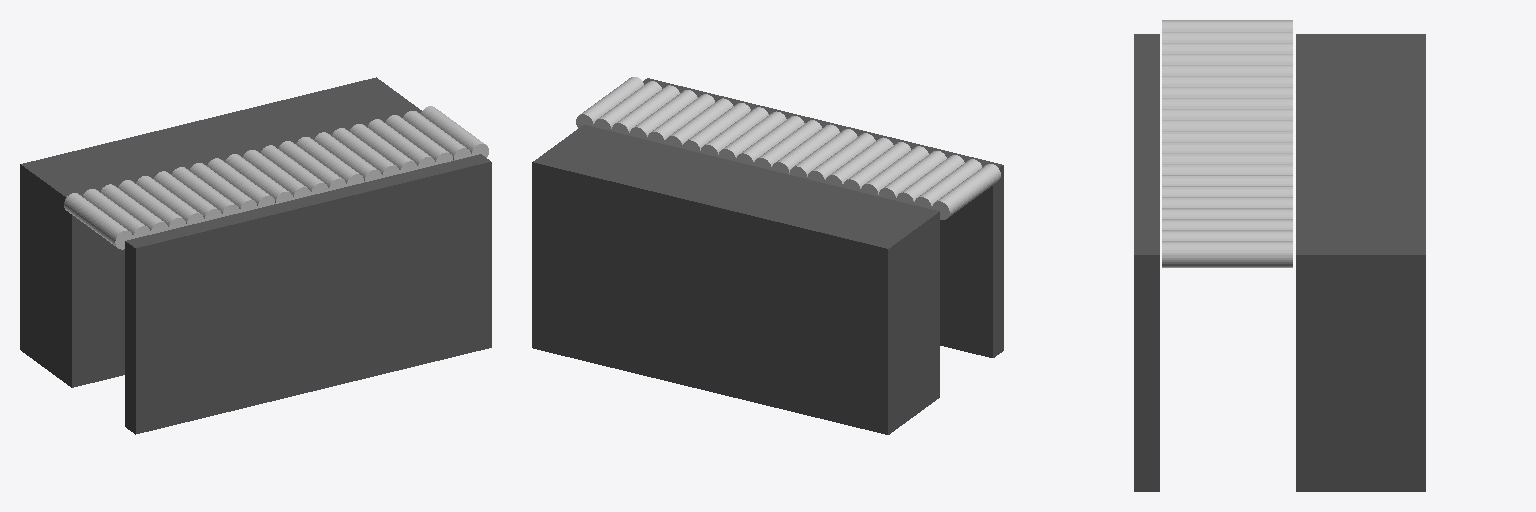
The robot description file, URDF, robot "conveyor":
<?xml version="1.0" ?>
<robot name="conveyor" xmlns:xacro="http://www.ros.org/wiki/xacro">
  <!-- Import Rviz colors -->
  <material name="Grey">
    <color rgba="0.2 0.2 0.2 1.0"/>
  </material>
  <material name="Orange">
    <color rgba="1.0 0.423529411765 0.0392156862745 1.0"/>
  </material>
  <material name="Blue">
  <color rgba="0.5 0.7 1.0 1.0"/>      
  </material>
  
<link name="table_side_01">
  <visual>	
    <origin rpy="0 0 0" xyz="0 0 0"/>
    <geometry>
      <box size = "2 0.5 1" />
    </geometry>
    <material name="Grey">
      <color rgba="0.4 0.4 0.4 1.0"/>
    </material>
  </visual>
  <collision>
    <origin rpy="0 0 0" xyz="0 0 0"/>
    <geometry>
      <box size = "2 0.5 1" />
    </geometry>
  </collision>
  <inertial>
    <origin rpy="0 0 0" xyz="1 0.25 0.5"/>
    <mass value="100"/>
    <inertia ixx="0.0" ixy="0" ixz="0" iyy="0.0" iyz="0" izz="0.0"/>
  </inertial>
</link>

<link name="table_side_02">
  <visual>	
    <origin rpy="0 0 0" xyz="0 0 0"/>
    <geometry>
      <box size = "2 0.1 1" />
    </geometry>
    <material name="Grey">
      <color rgba="0.4 0.4 0.4 1.0"/>
    </material>
  </visual>
  <collision>
    <origin rpy="0 0 0" xyz="0 0 0"/>
    <geometry>
      <box size = "2 0.1 1" />
    </geometry>
  </collision>
  <inertial>
    <origin rpy="0 0 0" xyz="1 0.05 0.5"/>
    <mass value="100"/>
    <inertia ixx="0.0" ixy="0" ixz="0" iyy="0.0" iyz="0" izz="0.0"/>
  </inertial>
</link>

<joint name="table_side_setup" type="fixed">
    <parent link="table_side_01"/>
    <child link="table_side_02"/>
    <origin rpy="0 0 0" xyz="0.0 -0.82 .0"/>
</joint>

<link name="roller_01">
  <visual>
    <origin rpy="0 0 0" xyz="0 0 .25"/>
    <geometry>
      <cylinder radius="0.05" length=".5" />
    </geometry>
    <material name="LightGrey">
      <color rgba="0.8 0.8 0.8 1.0"/>
    </material>
  </visual>
  <collision>
    <origin rpy="0 0 0" xyz="0 0 .25"/>
    <geometry>
      <cylinder radius="0.05" length=".5"/>
    </geometry>
  </collision>
  <inertial>
    <origin rpy="0 0 0" xyz="0 0 0.25"/>
    <mass value="100"/>
    <inertia ixx="0.1" ixy="0" ixz="0" iyy="0.1" iyz="0" izz="5.0"/>
  </inertial>
</link>

<link name="roller_02">
  <visual>
    <origin rpy="0 0 0" xyz="0 0 .25"/>
    <geometry>
      <cylinder radius="0.05" length=".5" />
    </geometry>
    <material name="LightGrey">
      <color rgba="0.8 0.8 0.8 1.0"/>
    </material>
  </visual>
  <collision>
    <origin rpy="0 0 0" xyz="0 0 .25"/>
    <geometry>
      <cylinder radius="0.05" length=".5"/>
    </geometry>
  </collision>
  <inertial>
    <origin rpy="0 0 0" xyz="0 0 0.25"/>
    <mass value="100"/>
    <inertia ixx="0.1" ixy="0" ixz="0" iyy="0.1" iyz="0" izz="5.0"/>
  </inertial>
</link>

<link name="roller_03">
  <visual>
    <origin rpy="0 0 0" xyz="0 0 .25"/>
    <geometry>
      <cylinder radius="0.05" length=".5" />
    </geometry>
    <material name="LightGrey">
      <color rgba="0.8 0.8 0.8 1.0"/>
    </material>
  </visual>
  <collision>
    <origin rpy="0 0 0" xyz="0 0 .25"/>
    <geometry>
      <cylinder radius="0.05" length=".5"/>
    </geometry>
  </collision>
  <inertial>
    <origin rpy="0 0 0" xyz="0 0 0.25"/>
    <mass value="100"/>
    <inertia ixx="0.1" ixy="0" ixz="0" iyy="0.1" iyz="0" izz="5.0"/>
  </inertial>
</link>

<link name="roller_04">
  <visual>
    <origin rpy="0 0 0" xyz="0 0 .25"/>
    <geometry>
      <cylinder radius="0.05" length=".5" />
    </geometry>
    <material name="LightGrey">
      <color rgba="0.8 0.8 0.8 1.0"/>
    </material>
  </visual>
  <collision>
    <origin rpy="0 0 0" xyz="0 0 .25"/>
    <geometry>
      <cylinder radius="0.05" length=".5"/>
    </geometry>
  </collision>
  <inertial>
    <origin rpy="0 0 0" xyz="0 0 0.25"/>
    <mass value="100"/>
    <inertia ixx="0.1" ixy="0" ixz="0" iyy="0.1" iyz="0" izz="5.0"/>
  </inertial>
</link>

<link name="roller_05">
  <visual>
    <origin rpy="0 0 0" xyz="0 0 .25"/>
    <geometry>
      <cylinder radius="0.05" length=".5" />
    </geometry>
    <material name="LightGrey">
      <color rgba="0.8 0.8 0.8 1.0"/>
    </material>
  </visual>
  <collision>
    <origin rpy="0 0 0" xyz="0 0 .25"/>
    <geometry>
      <cylinder radius="0.05" length=".5"/>
    </geometry>
  </collision>
  <inertial>
    <origin rpy="0 0 0" xyz="0 0 0.25"/>
    <mass value="100"/>
    <inertia ixx="0.1" ixy="0" ixz="0" iyy="0.1" iyz="0" izz="5.0"/>
  </inertial>
</link>

<link name="roller_06">
  <visual>
    <origin rpy="0 0 0" xyz="0 0 .25"/>
    <geometry>
      <cylinder radius="0.05" length=".5" />
    </geometry>
    <material name="LightGrey">
      <color rgba="0.8 0.8 0.8 1.0"/>
    </material>
  </visual>
  <collision>
    <origin rpy="0 0 0" xyz="0 0 .25"/>
    <geometry>
      <cylinder radius="0.05" length=".5"/>
    </geometry>
  </collision>
  <inertial>
    <origin rpy="0 0 0" xyz="0 0 0.25"/>
    <mass value="100"/>
    <inertia ixx="0.1" ixy="0" ixz="0" iyy="0.1" iyz="0" izz="5.0"/>
  </inertial>
</link>

<link name="roller_07">
  <visual>
    <origin rpy="0 0 0" xyz="0 0 .25"/>
    <geometry>
      <cylinder radius="0.05" length=".5" />
    </geometry>
    <material name="LightGrey">
      <color rgba="0.8 0.8 0.8 1.0"/>
    </material>
  </visual>
  <collision>
    <origin rpy="0 0 0" xyz="0 0 .25"/>
    <geometry>
      <cylinder radius="0.05" length=".5"/>
    </geometry>
  </collision>
  <inertial>
    <origin rpy="0 0 0" xyz="0 0 0.25"/>
    <mass value="100"/>
    <inertia ixx="0.1" ixy="0" ixz="0" iyy="0.1" iyz="0" izz="5.0"/>
  </inertial>
</link>

<link name="roller_08">
  <visual>
    <origin rpy="0 0 0" xyz="0 0 .25"/>
    <geometry>
      <cylinder radius="0.05" length=".5" />
    </geometry>
    <material name="LightGrey">
      <color rgba="0.8 0.8 0.8 1.0"/>
    </material>
  </visual>
  <collision>
    <origin rpy="0 0 0" xyz="0 0 .25"/>
    <geometry>
      <cylinder radius="0.05" length=".5"/>
    </geometry>
  </collision>
  <inertial>
    <origin rpy="0 0 0" xyz="0 0 0.25"/>
    <mass value="100"/>
    <inertia ixx="0.1" ixy="0" ixz="0" iyy="0.1" iyz="0" izz="5.0"/>
  </inertial>
</link>

<link name="roller_09">
  <visual>
    <origin rpy="0 0 0" xyz="0 0 .25"/>
    <geometry>
      <cylinder radius="0.05" length=".5" />
    </geometry>
    <material name="LightGrey">
      <color rgba="0.8 0.8 0.8 1.0"/>
    </material>
  </visual>
  <collision>
    <origin rpy="0 0 0" xyz="0 0 .25"/>
    <geometry>
      <cylinder radius="0.05" length=".5"/>
    </geometry>
  </collision>
  <inertial>
    <origin rpy="0 0 0" xyz="0 0 0.25"/>
    <mass value="100"/>
    <inertia ixx="0.1" ixy="0" ixz="0" iyy="0.1" iyz="0" izz="5.0"/>
  </inertial>
</link>

<link name="roller_10">
  <visual>
    <origin rpy="0 0 0" xyz="0 0 .25"/>
    <geometry>
      <cylinder radius="0.05" length=".5" />
    </geometry>
    <material name="LightGrey">
      <color rgba="0.8 0.8 0.8 1.0"/>
    </material>
  </visual>
  <collision>
    <origin rpy="0 0 0" xyz="0 0 .25"/>
    <geometry>
      <cylinder radius="0.05" length=".5"/>
    </geometry>
  </collision>
  <inertial>
    <origin rpy="0 0 0" xyz="0 0 0.25"/>
    <mass value="100"/>
    <inertia ixx="0.1" ixy="0" ixz="0" iyy="0.1" iyz="0" izz="5.0"/>
  </inertial>
</link>

<link name="roller_11">
  <visual>
    <origin rpy="0 0 0" xyz="0 0 .25"/>
    <geometry>
      <cylinder radius="0.05" length=".5" />
    </geometry>
    <material name="LightGrey">
      <color rgba="0.8 0.8 0.8 1.0"/>
    </material>
  </visual>
  <collision>
    <origin rpy="0 0 0" xyz="0 0 .25"/>
    <geometry>
      <cylinder radius="0.05" length=".5"/>
    </geometry>
  </collision>
  <inertial>
    <origin rpy="0 0 0" xyz="0 0 0.25"/>
    <mass value="100"/>
    <inertia ixx="0.1" ixy="0" ixz="0" iyy="0.1" iyz="0" izz="5.0"/>
  </inertial>
</link>

<link name="roller_12">
  <visual>
    <origin rpy="0 0 0" xyz="0 0 .25"/>
    <geometry>
      <cylinder radius="0.05" length=".5" />
    </geometry>
    <material name="LightGrey">
      <color rgba="0.8 0.8 0.8 1.0"/>
    </material>
  </visual>
  <collision>
    <origin rpy="0 0 0" xyz="0 0 .25"/>
    <geometry>
      <cylinder radius="0.05" length=".5"/>
    </geometry>
  </collision>
  <inertial>
    <origin rpy="0 0 0" xyz="0 0 0.25"/>
    <mass value="100"/>
    <inertia ixx="0.1" ixy="0" ixz="0" iyy="0.1" iyz="0" izz="5.0"/>
  </inertial>
</link>

<link name="roller_13">
  <visual>
    <origin rpy="0 0 0" xyz="0 0 .25"/>
    <geometry>
      <cylinder radius="0.05" length=".5" />
    </geometry>
    <material name="LightGrey">
      <color rgba="0.8 0.8 0.8 1.0"/>
    </material>
  </visual>
  <collision>
    <origin rpy="0 0 0" xyz="0 0 .25"/>
    <geometry>
      <cylinder radius="0.05" length=".5"/>
    </geometry>
  </collision>
  <inertial>
    <origin rpy="0 0 0" xyz="0 0 0.25"/>
    <mass value="100"/>
    <inertia ixx="0.1" ixy="0" ixz="0" iyy="0.1" iyz="0" izz="5.0"/>
  </inertial>
</link>

<link name="roller_14">
  <visual>
    <origin rpy="0 0 0" xyz="0 0 .25"/>
    <geometry>
      <cylinder radius="0.05" length=".5" />
    </geometry>
    <material name="LightGrey">
      <color rgba="0.8 0.8 0.8 1.0"/>
    </material>
  </visual>
  <collision>
    <origin rpy="0 0 0" xyz="0 0 .25"/>
    <geometry>
      <cylinder radius="0.05" length=".5"/>
    </geometry>
  </collision>
  <inertial>
    <origin rpy="0 0 0" xyz="0 0 0.25"/>
    <mass value="100"/>
    <inertia ixx="0.1" ixy="0" ixz="0" iyy="0.1" iyz="0" izz="5.0"/>
  </inertial>
</link>

<link name="roller_15">
  <visual>
    <origin rpy="0 0 0" xyz="0 0 .25"/>
    <geometry>
      <cylinder radius="0.05" length=".5" />
    </geometry>
    <material name="LightGrey">
      <color rgba="0.8 0.8 0.8 1.0"/>
    </material>
  </visual>
  <collision>
    <origin rpy="0 0 0" xyz="0 0 .25"/>
    <geometry>
      <cylinder radius="0.05" length=".5"/>
    </geometry>
  </collision>
  <inertial>
    <origin rpy="0 0 0" xyz="0 0 0.25"/>
    <mass value="100"/>
    <inertia ixx="0.1" ixy="0" ixz="0" iyy="0.1" iyz="0" izz="5.0"/>
  </inertial>
</link>

<link name="roller_16">
  <visual>
    <origin rpy="0 0 0" xyz="0 0 .25"/>
    <geometry>
      <cylinder radius="0.05" length=".5" />
    </geometry>
    <material name="LightGrey">
      <color rgba="0.8 0.8 0.8 1.0"/>
    </material>
  </visual>
  <collision>
    <origin rpy="0 0 0" xyz="0 0 .25"/>
    <geometry>
      <cylinder radius="0.05" length=".5"/>
    </geometry>
  </collision>
  <inertial>
    <origin rpy="0 0 0" xyz="0 0 0.25"/>
    <mass value="100"/>
    <inertia ixx="0.1" ixy="0" ixz="0" iyy="0.1" iyz="0" izz="5.0"/>
  </inertial>
</link>

<link name="roller_17">
  <visual>
    <origin rpy="0 0 0" xyz="0 0 .25"/>
    <geometry>
      <cylinder radius="0.05" length=".5" />
    </geometry>
    <material name="LightGrey">
      <color rgba="0.8 0.8 0.8 1.0"/>
    </material>
  </visual>
  <collision>
    <origin rpy="0 0 0" xyz="0 0 .25"/>
    <geometry>
      <cylinder radius="0.05" length=".5"/>
    </geometry>
    <material name="LightGrey">
      <color rgba="0.8 0.8 0.8 1.0"/>
    </material>
  </collision>
  <inertial>
    <origin rpy="0 0 0" xyz="0 0 0.25"/>
    <mass value="100"/>
    <inertia ixx="0.1" ixy="0" ixz="0" iyy="0.1" iyz="0" izz="5.0"/>
  </inertial>
</link>

<link name="roller_18">
  <visual>
    <origin rpy="0 0 0" xyz="0 0 .25"/>
    <geometry>
      <cylinder radius="0.05" length=".5" />
    </geometry>
    <material name="LightGrey">
      <color rgba="0.8 0.8 0.8 1.0"/>
    </material>
  </visual>
  <collision>
    <origin rpy="0 0 0" xyz="0 0 .25"/>
    <geometry>
      <cylinder radius="0.05" length=".5"/>
    </geometry>
  </collision>
  <inertial>
    <origin rpy="0 0 0" xyz="0 0 0.25"/>
    <mass value="100"/>
    <inertia ixx="0.1" ixy="0" ixz="0" iyy="0.1" iyz="0" izz="5.0"/>
  </inertial>
</link>

<link name="roller_19">
  <visual>
    <origin rpy="0 0 0" xyz="0 0 .25"/>
    <geometry>
      <cylinder radius="0.05" length=".5" />
    </geometry>
    <material name="LightGrey">
      <color rgba="0.8 0.8 0.8 1.0"/>
    </material>
  </visual>
  <collision>
    <origin rpy="0 0 0" xyz="0 0 .25"/>
    <geometry>
      <cylinder radius="0.05" length=".5"/>
    </geometry>
  </collision>
  <inertial>
    <origin rpy="0 0 0" xyz="0 0 0.25"/>
    <mass value="100"/>
    <inertia ixx="0.1" ixy="0" ixz="0" iyy="0.1" iyz="0" izz="5.0"/>
  </inertial>
</link>

<link name="roller_20">
  <visual>
    <origin rpy="0 0 0" xyz="0 0 .25"/>
    <geometry>
      <cylinder radius="0.05" length=".5" />
    </geometry>
    <material name="LightGrey">
      <color rgba="0.8 0.8 0.8 1.0"/>
    </material>
  </visual>
  <collision>
    <origin rpy="0 0 0" xyz="0 0 .25"/>
    <geometry>
      <cylinder radius="0.05" length=".5"/>
    </geometry>
  </collision>
  <inertial>
    <origin rpy="0 0 0" xyz="0 0 0.25"/>
    <mass value="100"/>
    <inertia ixx="0.1" ixy="0" ixz="0" iyy="0.1" iyz="0" izz="5.0"/>
  </inertial>
</link>

<link name="roller_21">
  <visual>
    <origin rpy="0 0 0" xyz="0 0 .25"/>
    <geometry>
      <cylinder radius="0.05" length=".5" />
    </geometry>
    <material name="LightGrey">
      <color rgba="0.8 0.8 0.8 1.0"/>
    </material>
  </visual>
  <collision>
    <origin rpy="0 0 0" xyz="0 0 .25"/>
    <geometry>
      <cylinder radius="0.05" length=".5"/>
    </geometry>
  </collision>
  <inertial>
    <origin rpy="0 0 0" xyz="0 0 0.25"/>
    <mass value="100"/>
    <inertia ixx="0.1" ixy="0" ixz="0" iyy="0.1" iyz="0" izz="5.0"/>
  </inertial>
</link>

<joint name="joint_roller_01" type="continuous">
    <parent link="table_side_01"/>
    <child link="roller_01"/>
    <origin rpy="1.57079632679 0 0" xyz="-1 -0.26 .5"/>
    <axis xyz="0 0 1" />
</joint>

<joint name="joint_roller_02" type="continuous">
    <parent link="table_side_01"/>
    <child link="roller_02"/>
    <origin rpy="1.57079632679 0 0" xyz="-.9 -0.26 .5"/>
    <axis xyz="0 0 1" />
</joint>

<joint name="joint_roller_03" type="continuous">
    <parent link="table_side_01"/>
    <child link="roller_03"/>
    <origin rpy="1.57079632679 0 0" xyz="-.8 -0.26 .5"/>
    <axis xyz="0 0 1" />
</joint>

<joint name="joint_roller_04" type="continuous">
    <parent link="table_side_01"/>
    <child link="roller_04"/>
    <origin rpy="1.57079632679 0 0" xyz="-.7 -0.26 .5"/>
    <axis xyz="0 0 1" />
</joint>

<joint name="joint_roller_05" type="continuous">
    <parent link="table_side_01"/>
    <child link="roller_05"/>
    <origin rpy="1.57079632679 0 0" xyz="-.6 -0.26 .5"/>
    <axis xyz="0 0 1" />
</joint>

<joint name="joint_roller_06" type="continuous">
    <parent link="table_side_01"/>
    <child link="roller_06"/>
    <origin rpy="1.57079632679 0 0" xyz="-.5 -0.26 .5"/>
    <axis xyz="0 0 1" />
</joint>

<joint name="joint_roller_07" type="continuous">
    <parent link="table_side_01"/>
    <child link="roller_07"/>
    <origin rpy="1.57079632679 0 0" xyz="-.4 -0.26 .5"/>
    <axis xyz="0 0 1" />
</joint>

<joint name="joint_roller_08" type="continuous">
    <parent link="table_side_01"/>
    <child link="roller_08"/>
    <origin rpy="1.57079632679 0 0" xyz="-.3 -0.26 .5"/>
    <axis xyz="0 0 1" />
</joint>

<joint name="joint_roller_09" type="continuous">
    <parent link="table_side_01"/>
    <child link="roller_09"/>
    <origin rpy="1.57079632679 0 0" xyz="-.2 -0.26 .5"/>
    <axis xyz="0 0 1" />
</joint>

<joint name="joint_roller_10" type="continuous">
    <parent link="table_side_01"/>
    <child link="roller_10"/>
    <origin rpy="1.57079632679 0 0" xyz="-.1 -0.26 .5"/>
    <axis xyz="0 0 1" />
</joint>

<joint name="joint_roller_11" type="continuous">
    <parent link="table_side_01"/>
    <child link="roller_11"/>
    <origin rpy="1.57079632679 0 0" xyz="0 -0.26 .5"/>
    <axis xyz="0 0 1" />
</joint>

<joint name="joint_roller_12" type="continuous">
    <parent link="table_side_01"/>
    <child link="roller_12"/>
    <origin rpy="1.57079632679 0 0" xyz="0.1 -0.26 .5"/>
    <axis xyz="0 0 1" />
</joint>

<joint name="joint_roller_13" type="continuous">
    <parent link="table_side_01"/>
    <child link="roller_13"/>
    <origin rpy="1.57079632679 0 0" xyz="0.2 -0.26 .5"/>
    <axis xyz="0 0 1" />
</joint>

<joint name="joint_roller_14" type="continuous">
    <parent link="table_side_01"/>
    <child link="roller_14"/>
    <origin rpy="1.57079632679 0 0" xyz="0.3 -0.26 .5"/>
    <axis xyz="0 0 1" />
</joint>

<joint name="joint_roller_15" type="continuous">
    <parent link="table_side_01"/>
    <child link="roller_15"/>
    <origin rpy="1.57079632679 0 0" xyz="0.4 -0.26 .5"/>
    <axis xyz="0 0 1" />
</joint>

<joint name="joint_roller_16" type="continuous">
    <parent link="table_side_01"/>
    <child link="roller_16"/>
    <origin rpy="1.57079632679 0 0" xyz="0.5 -0.26 .5"/>
    <axis xyz="0 0 1" />
</joint>

<joint name="joint_roller_17" type="continuous">
    <parent link="table_side_01"/>
    <child link="roller_17"/>
    <origin rpy="1.57079632679 0 0" xyz="0.6 -0.26 .5"/>
    <axis xyz="0 0 1" />
</joint>

<joint name="joint_roller_18" type="continuous">
    <parent link="table_side_01"/>
    <child link="roller_18"/>
    <origin rpy="1.57079632679 0 0" xyz="0.7 -0.26 .5"/>
    <axis xyz="0 0 1" />
</joint>

<joint name="joint_roller_19" type="continuous">
    <parent link="table_side_01"/>
    <child link="roller_19"/>
    <origin rpy="1.57079632679 0 0" xyz="0.8 -0.26 .5"/>
    <axis xyz="0 0 1" />
</joint>

<joint name="joint_roller_20" type="continuous">
    <parent link="table_side_01"/>
    <child link="roller_20"/>
    <origin rpy="1.57079632679 0 0" xyz="0.9 -0.26 .5"/>
    <axis xyz="0 0 1" />
</joint>

<joint name="joint_roller_21" type="continuous">
    <parent link="table_side_01"/>
    <child link="roller_21"/>
    <origin rpy="1.57079632679 0 0" xyz="1.0 -0.26 .5"/>
    <axis xyz="0 0 1" />
</joint>

</robot>

--- Render facts (derived) ---
Views: 3 orthographic renders of the robot side by side, from view 1: azimuth 30°, elevation 25°; view 2: azimuth 150°, elevation 25°; view 3: azimuth 270°, elevation 25°.
Model conveyor with 23 links and 22 joints (21 continuous, 1 fixed), rooted at table_side_01, posed all joints at 0.
Visible links, largest first — view 1: table_side_02, table_side_01, roller_01, roller_21, roller_03, roller_06, roller_15, roller_20, roller_07, roller_10, roller_13, roller_02 (+11 smaller); view 2: table_side_01, table_side_02, roller_01, roller_21, roller_10, roller_12, roller_02, roller_03, roller_05, roller_08, roller_15, roller_17 (+11 smaller); view 3: table_side_01, table_side_02, roller_21, roller_01, roller_02, roller_03, roller_04, roller_05, roller_06, roller_07, roller_08, roller_09 (+11 smaller).
Link boxes in pixels (left/top/right/bottom): table_side_02: left=125, top=154, right=491, bottom=434; table_side_01: left=20, top=77, right=421, bottom=387; roller_01: left=64, top=193, right=132, bottom=249; roller_21: left=421, top=106, right=488, bottom=157; roller_03: left=100, top=184, right=168, bottom=234; roller_06: left=154, top=171, right=221, bottom=221; roller_15: left=314, top=132, right=381, bottom=182; roller_20: left=403, top=111, right=470, bottom=160; roller_07: left=172, top=167, right=239, bottom=216; roller_10: left=225, top=154, right=292, bottom=203; roller_13: left=278, top=141, right=346, bottom=190; roller_02: left=83, top=189, right=150, bottom=238; table_side_01: left=532, top=125, right=939, bottom=434; table_side_02: left=643, top=78, right=1003, bottom=357; roller_01: left=932, top=164, right=1000, bottom=219; roller_21: left=576, top=77, right=643, bottom=128; roller_10: left=772, top=124, right=839, bottom=174; roller_12: left=736, top=116, right=804, bottom=165; roller_02: left=914, top=159, right=981, bottom=208; roller_03: left=896, top=155, right=964, bottom=204; roller_05: left=861, top=146, right=928, bottom=195; roller_08: left=807, top=133, right=875, bottom=182; roller_15: left=683, top=103, right=750, bottom=152; roller_17: left=647, top=94, right=714, bottom=143; table_side_01: left=1296, top=34, right=1425, bottom=491; table_side_02: left=1134, top=34, right=1159, bottom=491; roller_21: left=1162, top=241, right=1292, bottom=267; roller_01: left=1162, top=20, right=1292, bottom=31; roller_02: left=1162, top=32, right=1292, bottom=42; roller_03: left=1162, top=43, right=1292, bottom=53; roller_04: left=1162, top=54, right=1292, bottom=64; roller_05: left=1162, top=65, right=1292, bottom=75; roller_06: left=1162, top=76, right=1292, bottom=86; roller_07: left=1162, top=87, right=1292, bottom=97; roller_08: left=1162, top=98, right=1292, bottom=108; roller_09: left=1162, top=109, right=1292, bottom=119.
Size in the robot's own frame: 2.1 by 1.12 by 1.05 metres.
Geometry: primitives only (box / cylinder / sphere), no mesh files.